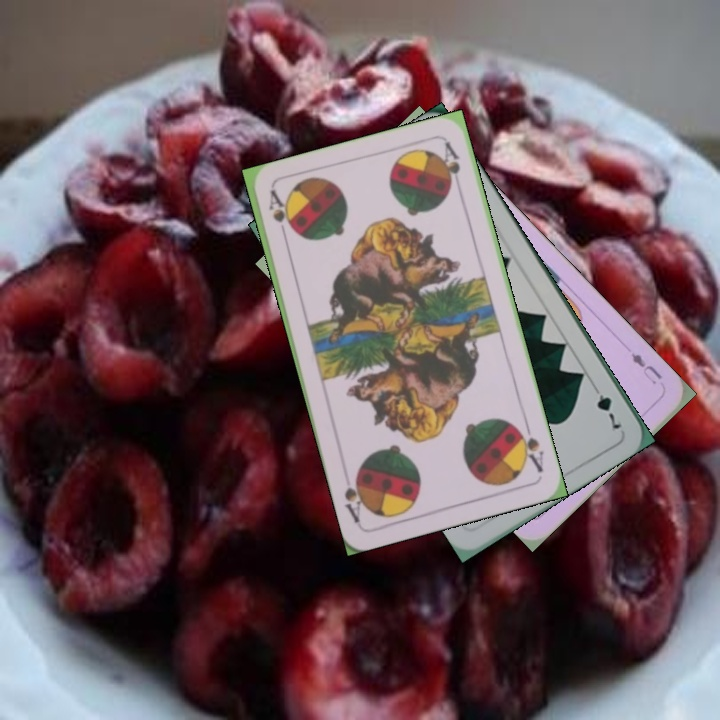EU: (626, 348, 665, 388)
G7: (587, 379, 624, 435)
SA: (512, 418, 547, 475), (265, 186, 293, 245)
